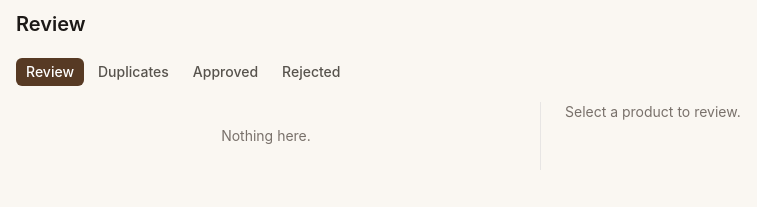
Scenario: ReviewPage › shows the status badge when it is not already implied by the active tab (Duplicates mixes statuses)
This screenshot has width=757, height=207.
Click the tab "Duplicates" at (133, 72), box [88, 58, 179, 86]
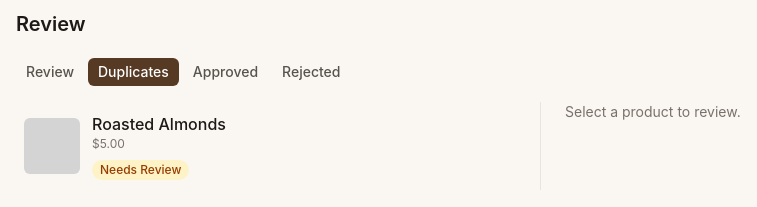
Result: the text "Needs Review" is shown at [92, 160, 189, 180]
